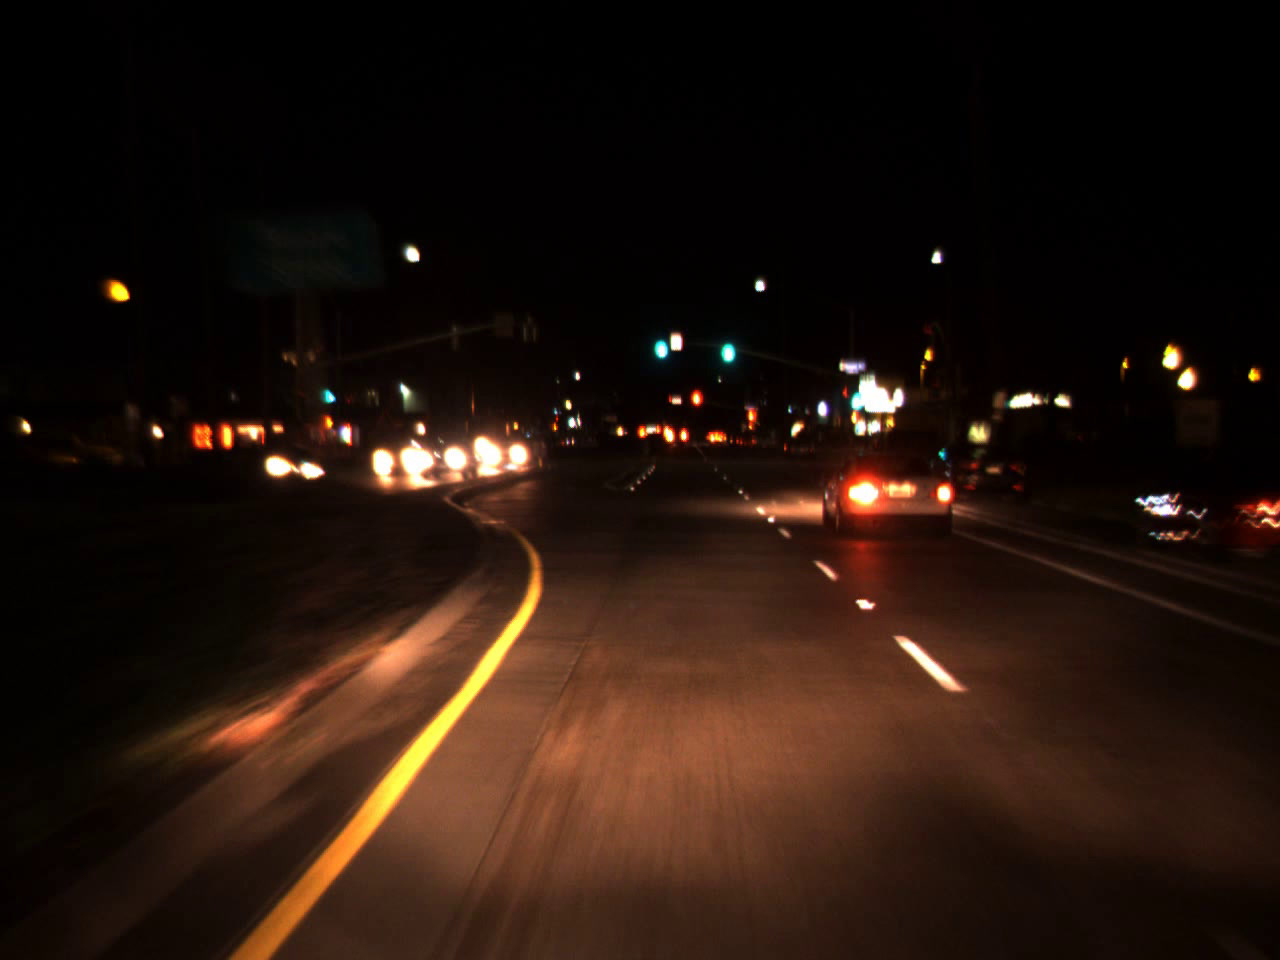go: (716, 323, 737, 365), (650, 319, 669, 364), (846, 377, 862, 413), (323, 374, 333, 407)
stop: (689, 387, 703, 427), (746, 405, 758, 437)
